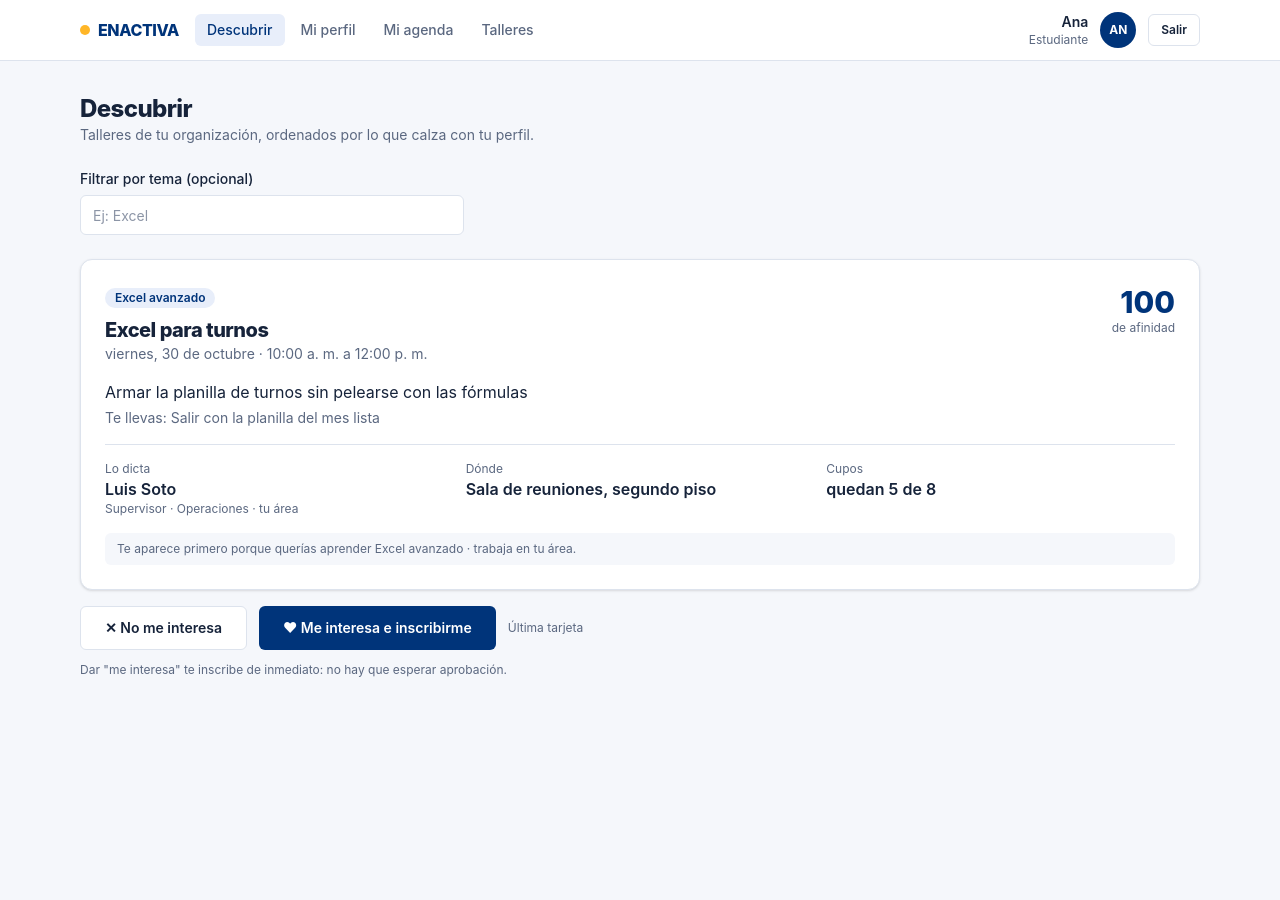
Test: Descubrir (el mazo del swipe) › el me interesa inscribe y lo dice
The width and height of the screenshot is (1280, 900).
Click the button "♥ Me interesa e inscribirme".
click(377, 628)  # box top-left (259, 606), bottom-right (496, 650)
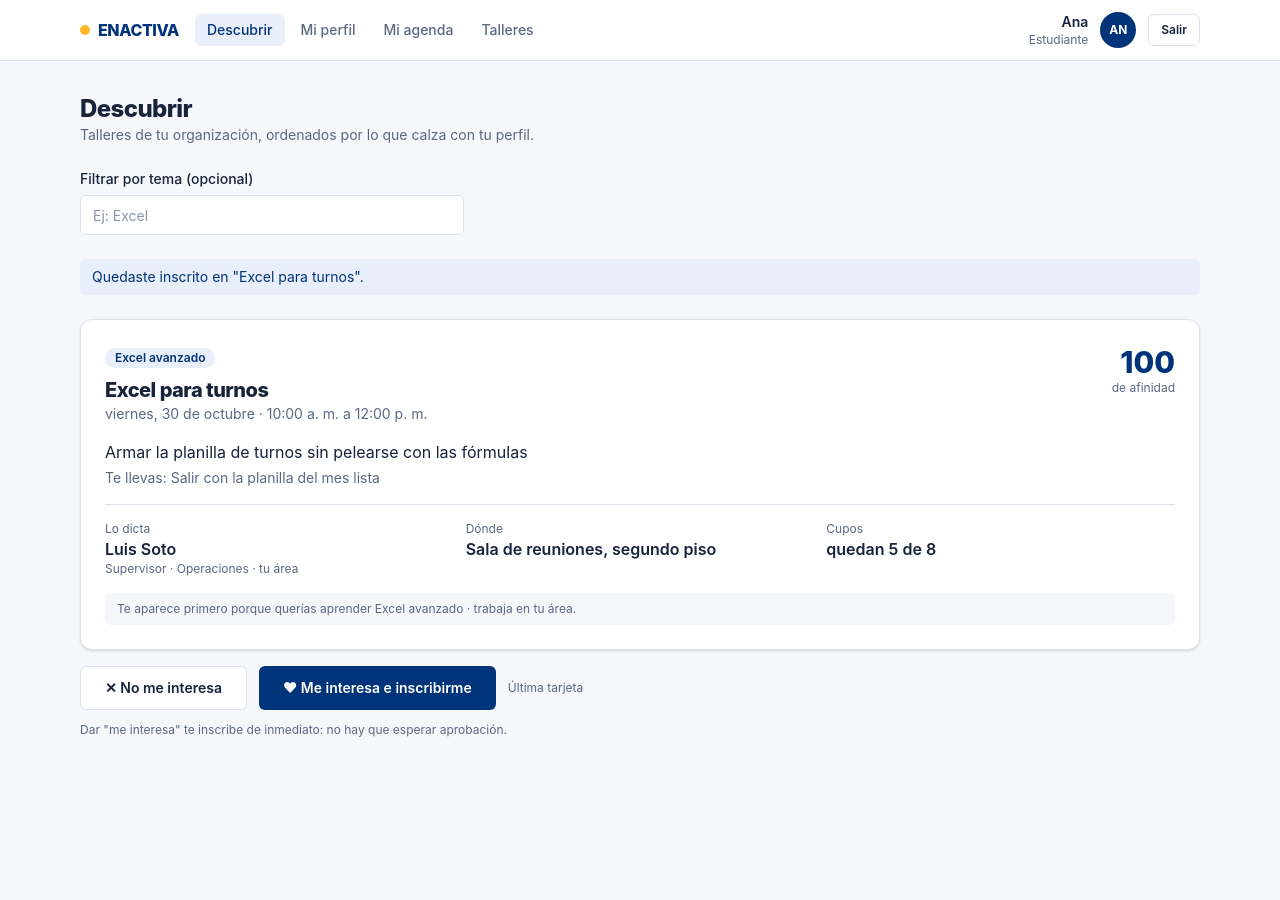
Expected: the message shows "Quedaste inscrito", top-left (92, 268), bottom-right (364, 285)
